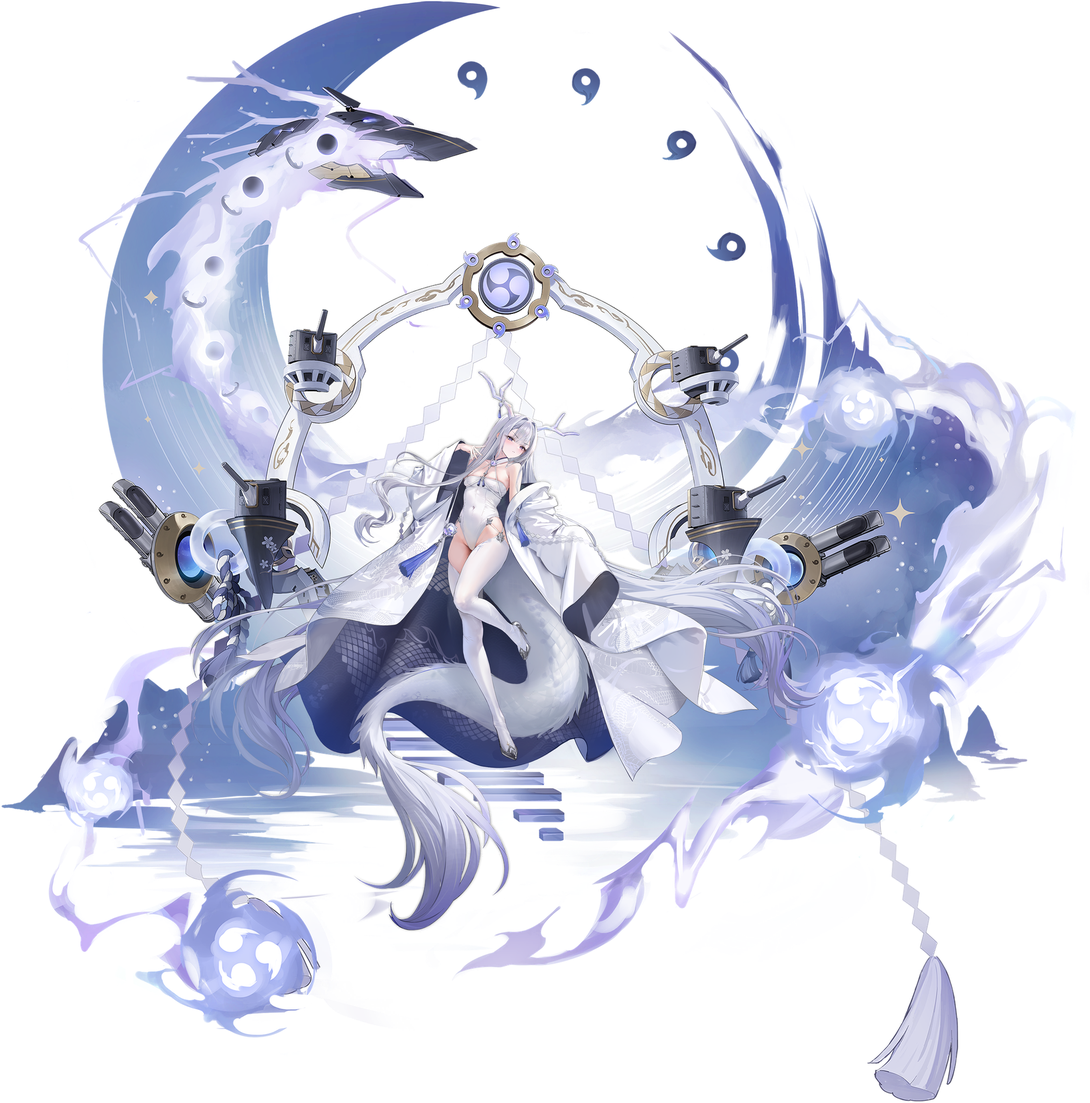person: (371, 372, 692, 854)
